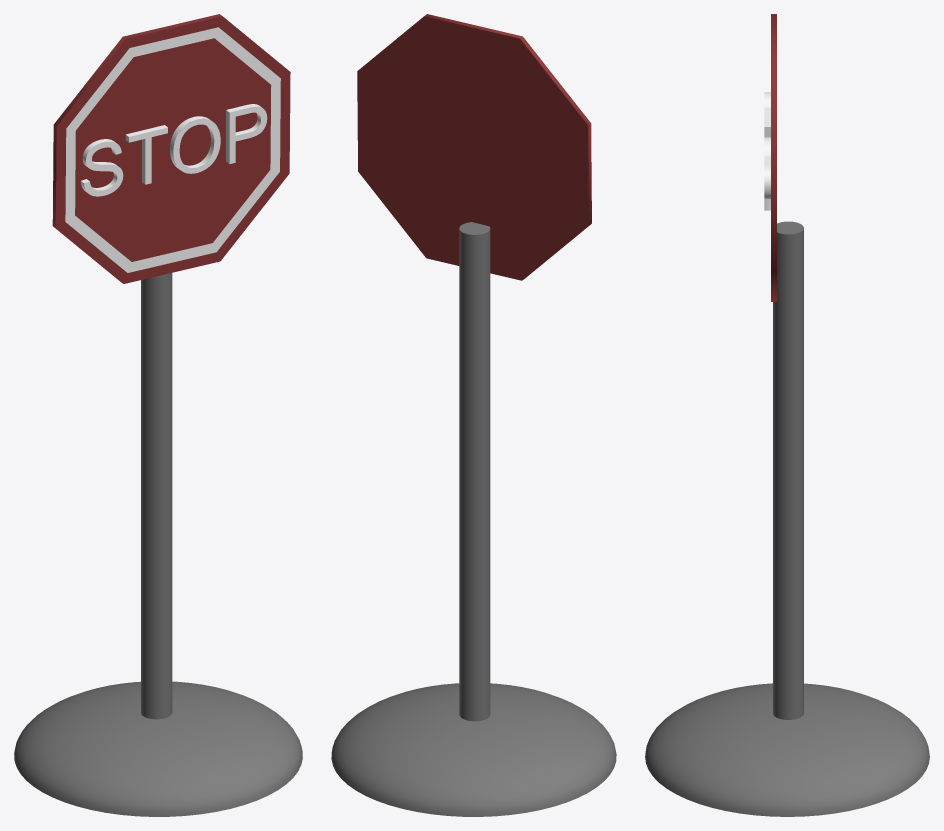
File: StopSign_1358.gltf
3 renders of one model, left to right at view 1: azimuth 30°, elevation 25°; view 2: azimuth 150°, elevation 25°; view 3: azimuth 270°, elevation 25°, orthographic.
Parts seen in each view (by area): view 1: node-0; view 2: node-0; view 3: node-0.
Boxes of the visible parts, x1=… form: node-0: x1=14, y1=14, x2=302, y2=816; node-0: x1=331, y1=14, x2=616, y2=816; node-0: x1=645, y1=14, x2=929, y2=816.
Bounding box in the file's own units: 25.98 × 75.51 × 25.98.
